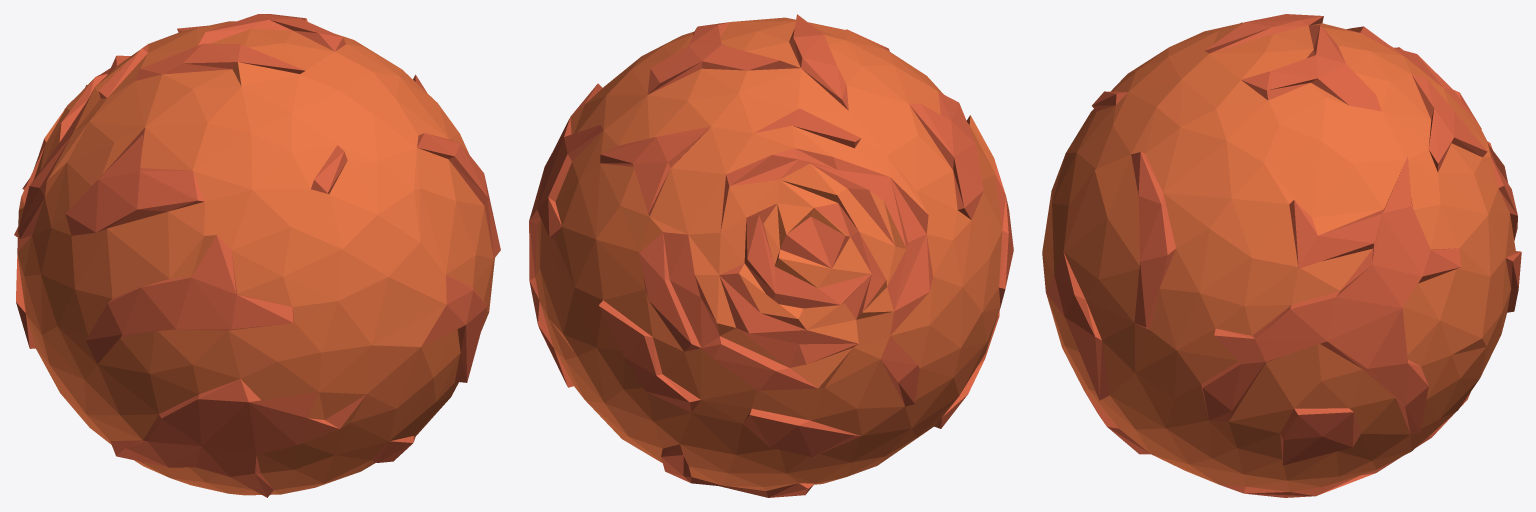
The model's file is Mars.obj.
3 views of the same model, side by side, from view 1: azimuth 30°, elevation 25°; view 2: azimuth 150°, elevation 25°; view 3: azimuth 270°, elevation 25° (orthographic).
Parts seen in each view (by area): view 1: Mars; view 2: Mars; view 3: Mars.
Boxes of the visible parts, x1=… form: Mars: x1=14, y1=14, x2=500, y2=497; Mars: x1=529, y1=14, x2=1013, y2=497; Mars: x1=1042, y1=14, x2=1521, y2=497.
Size of the model in its own units: 35.13 by 35.42 by 35.18.
